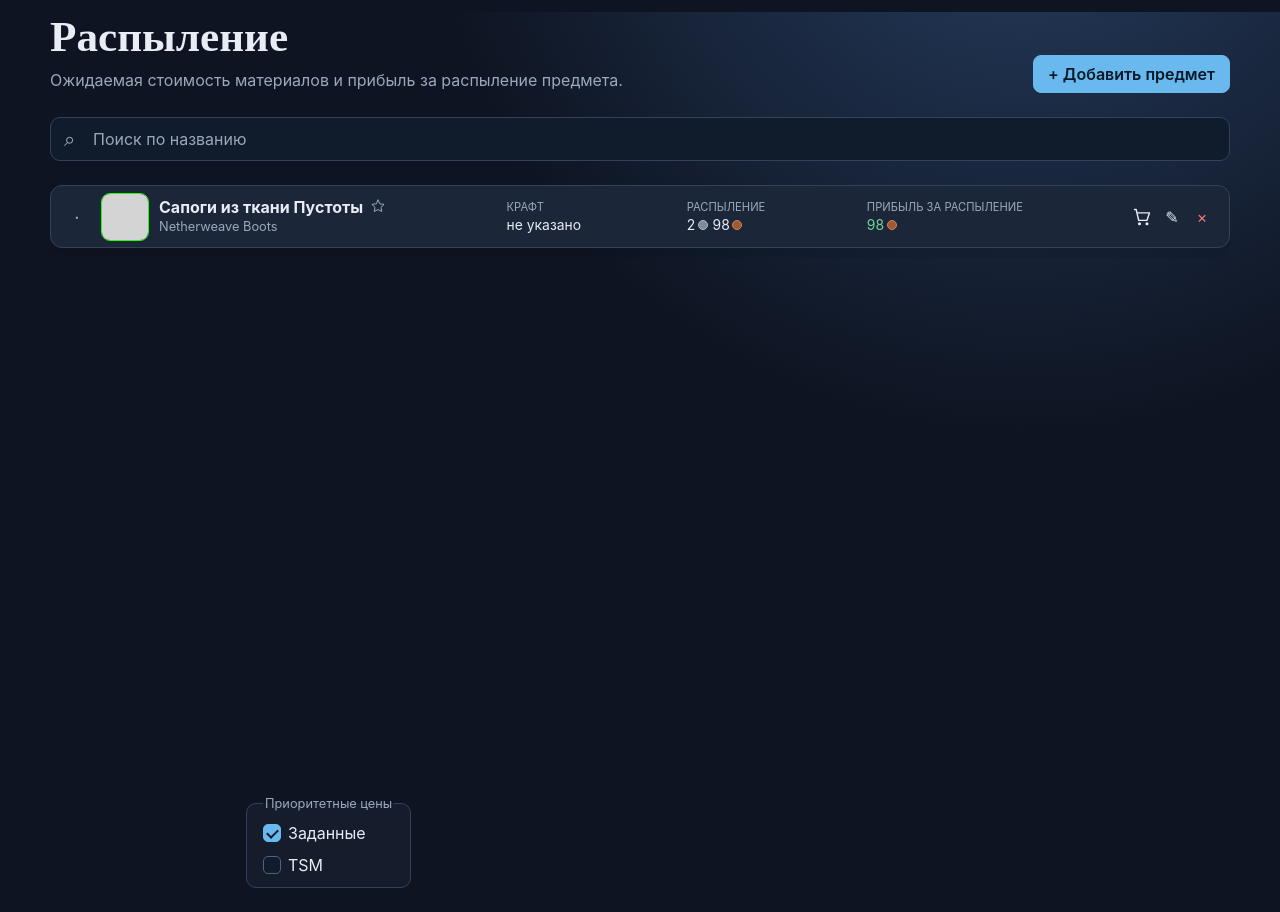
Scenario: страница Распыление › считает Classic и показывает названия, иконки и цены материалов старого мира
Expected: the element with class "money-display" reads "98", top-left (867, 217), bottom-right (897, 233)
Step 1. Hover over the element with class "tooltip-trigger" → point(714, 225), box top-left (687, 217), bottom-right (742, 233)
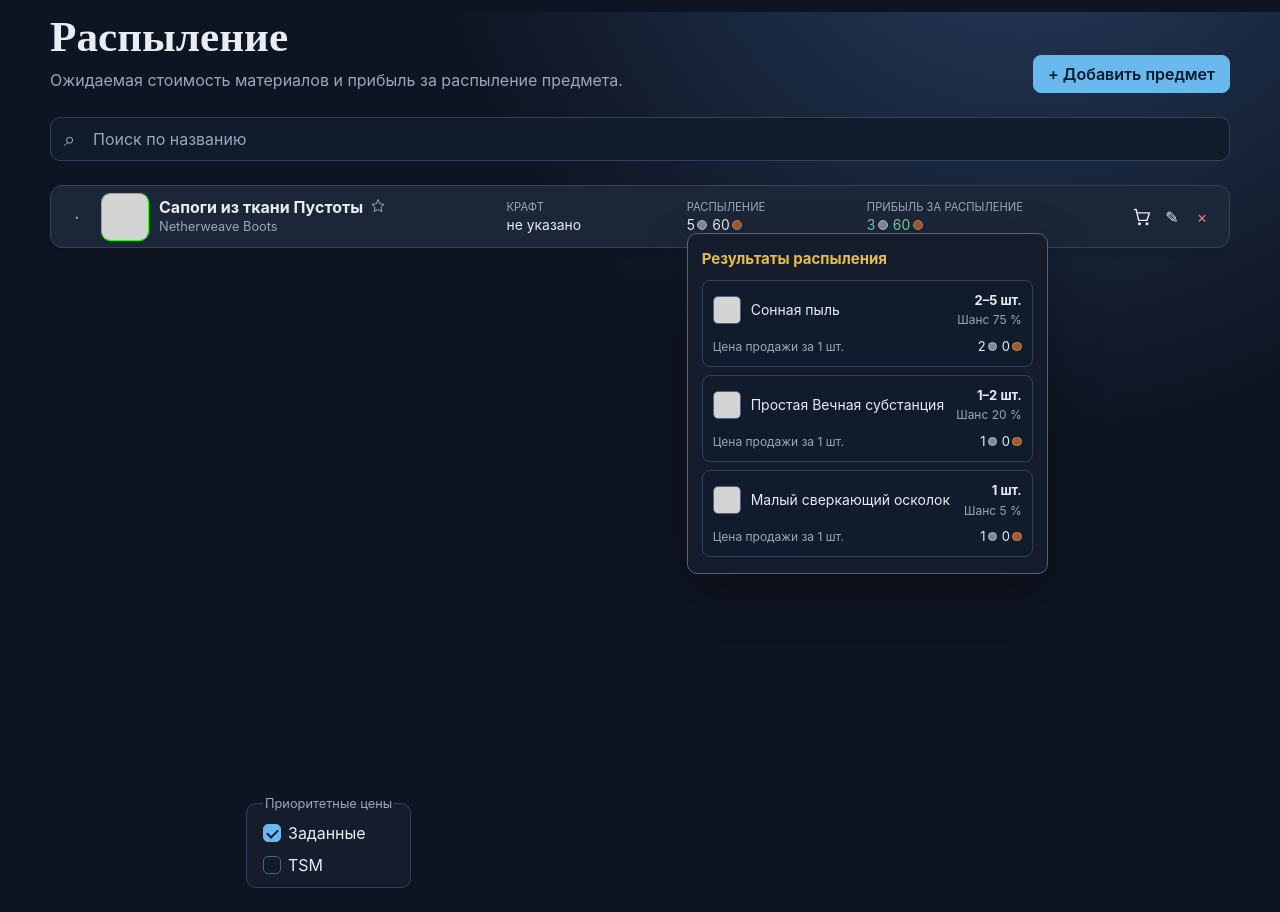
Expected: the text "Сонная пыль 2–5 шт. Шанс 75 % Цена продажи за 1 шт. 2 0" is shown, top-left (702, 280), bottom-right (1033, 367)
Expected: the text "Простая Вечная субстанция" is shown, top-left (751, 397), bottom-right (944, 413)
Expected: the text "Малый сверкающий осколок" is shown, top-left (751, 492), bottom-right (950, 508)
